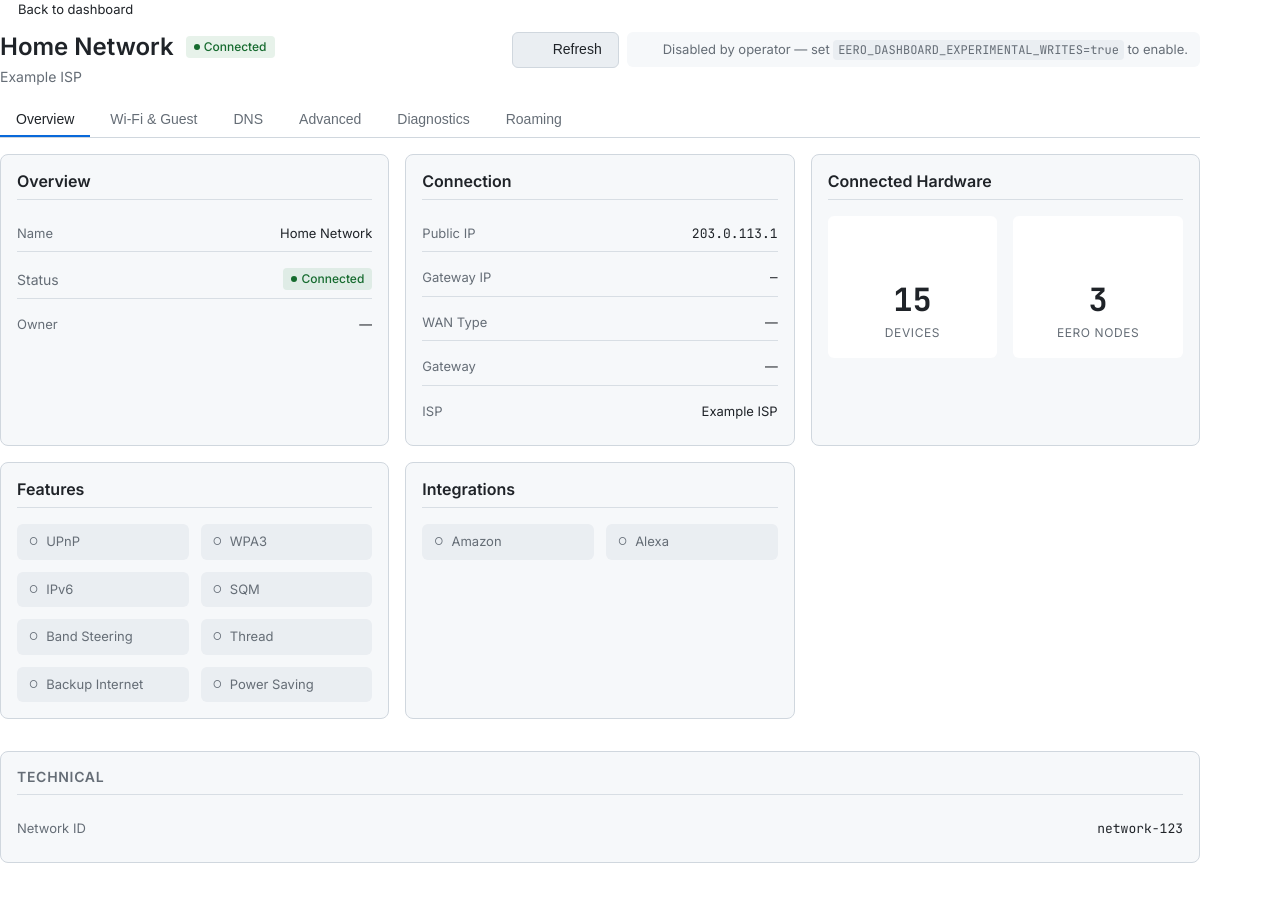
Test: network detail page - diagnostics speed test history › renders a single speed test history card
The image size is (1280, 900).
Expected: the heading "Home Network" is shown, [0,32,174,62]
Click the tab "Diagnostics".
click(434, 120)  # box [381,102,486,136]
(page scrolled)
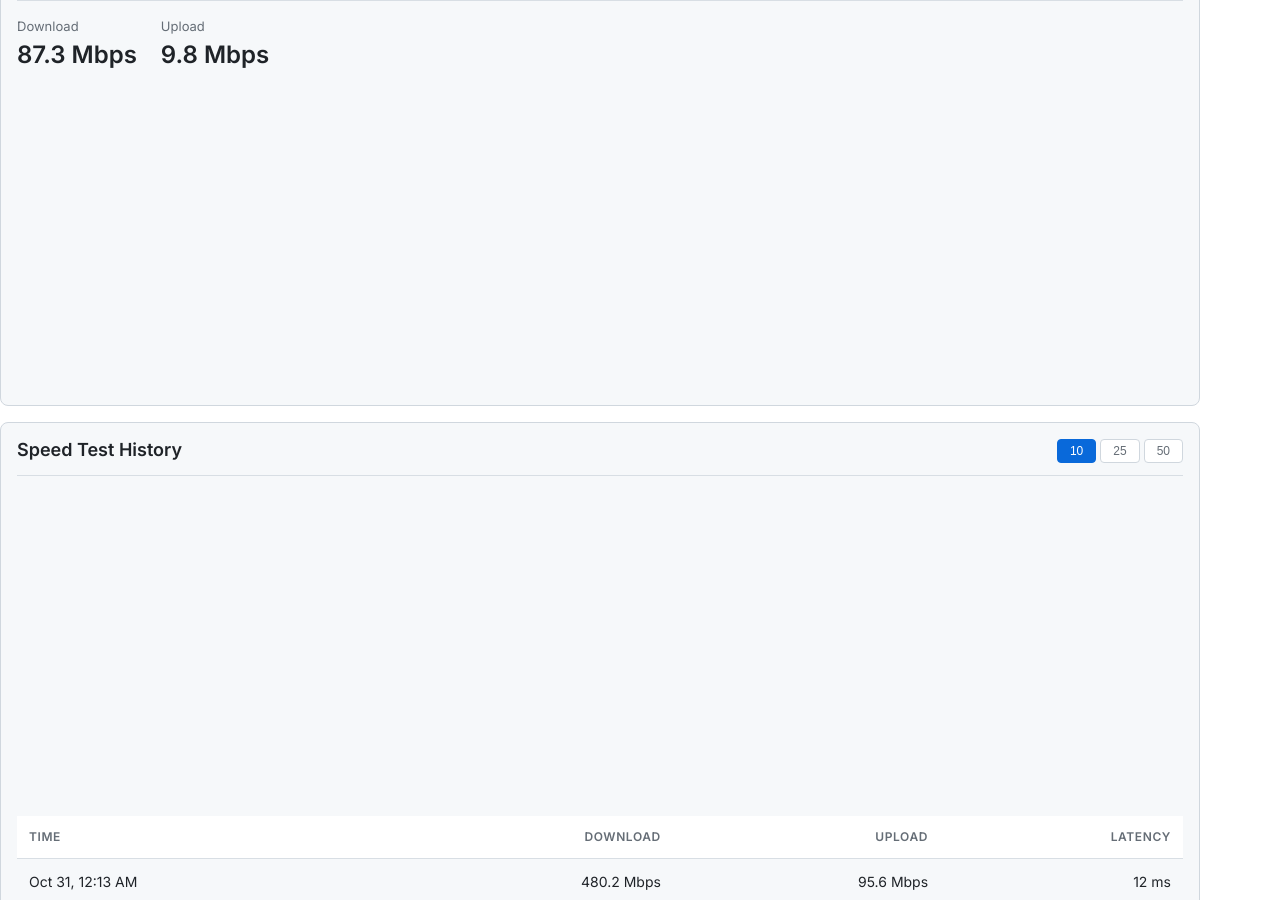
Expected: the number of headings "Speed Test History" is 1, [17,439,182,462]
